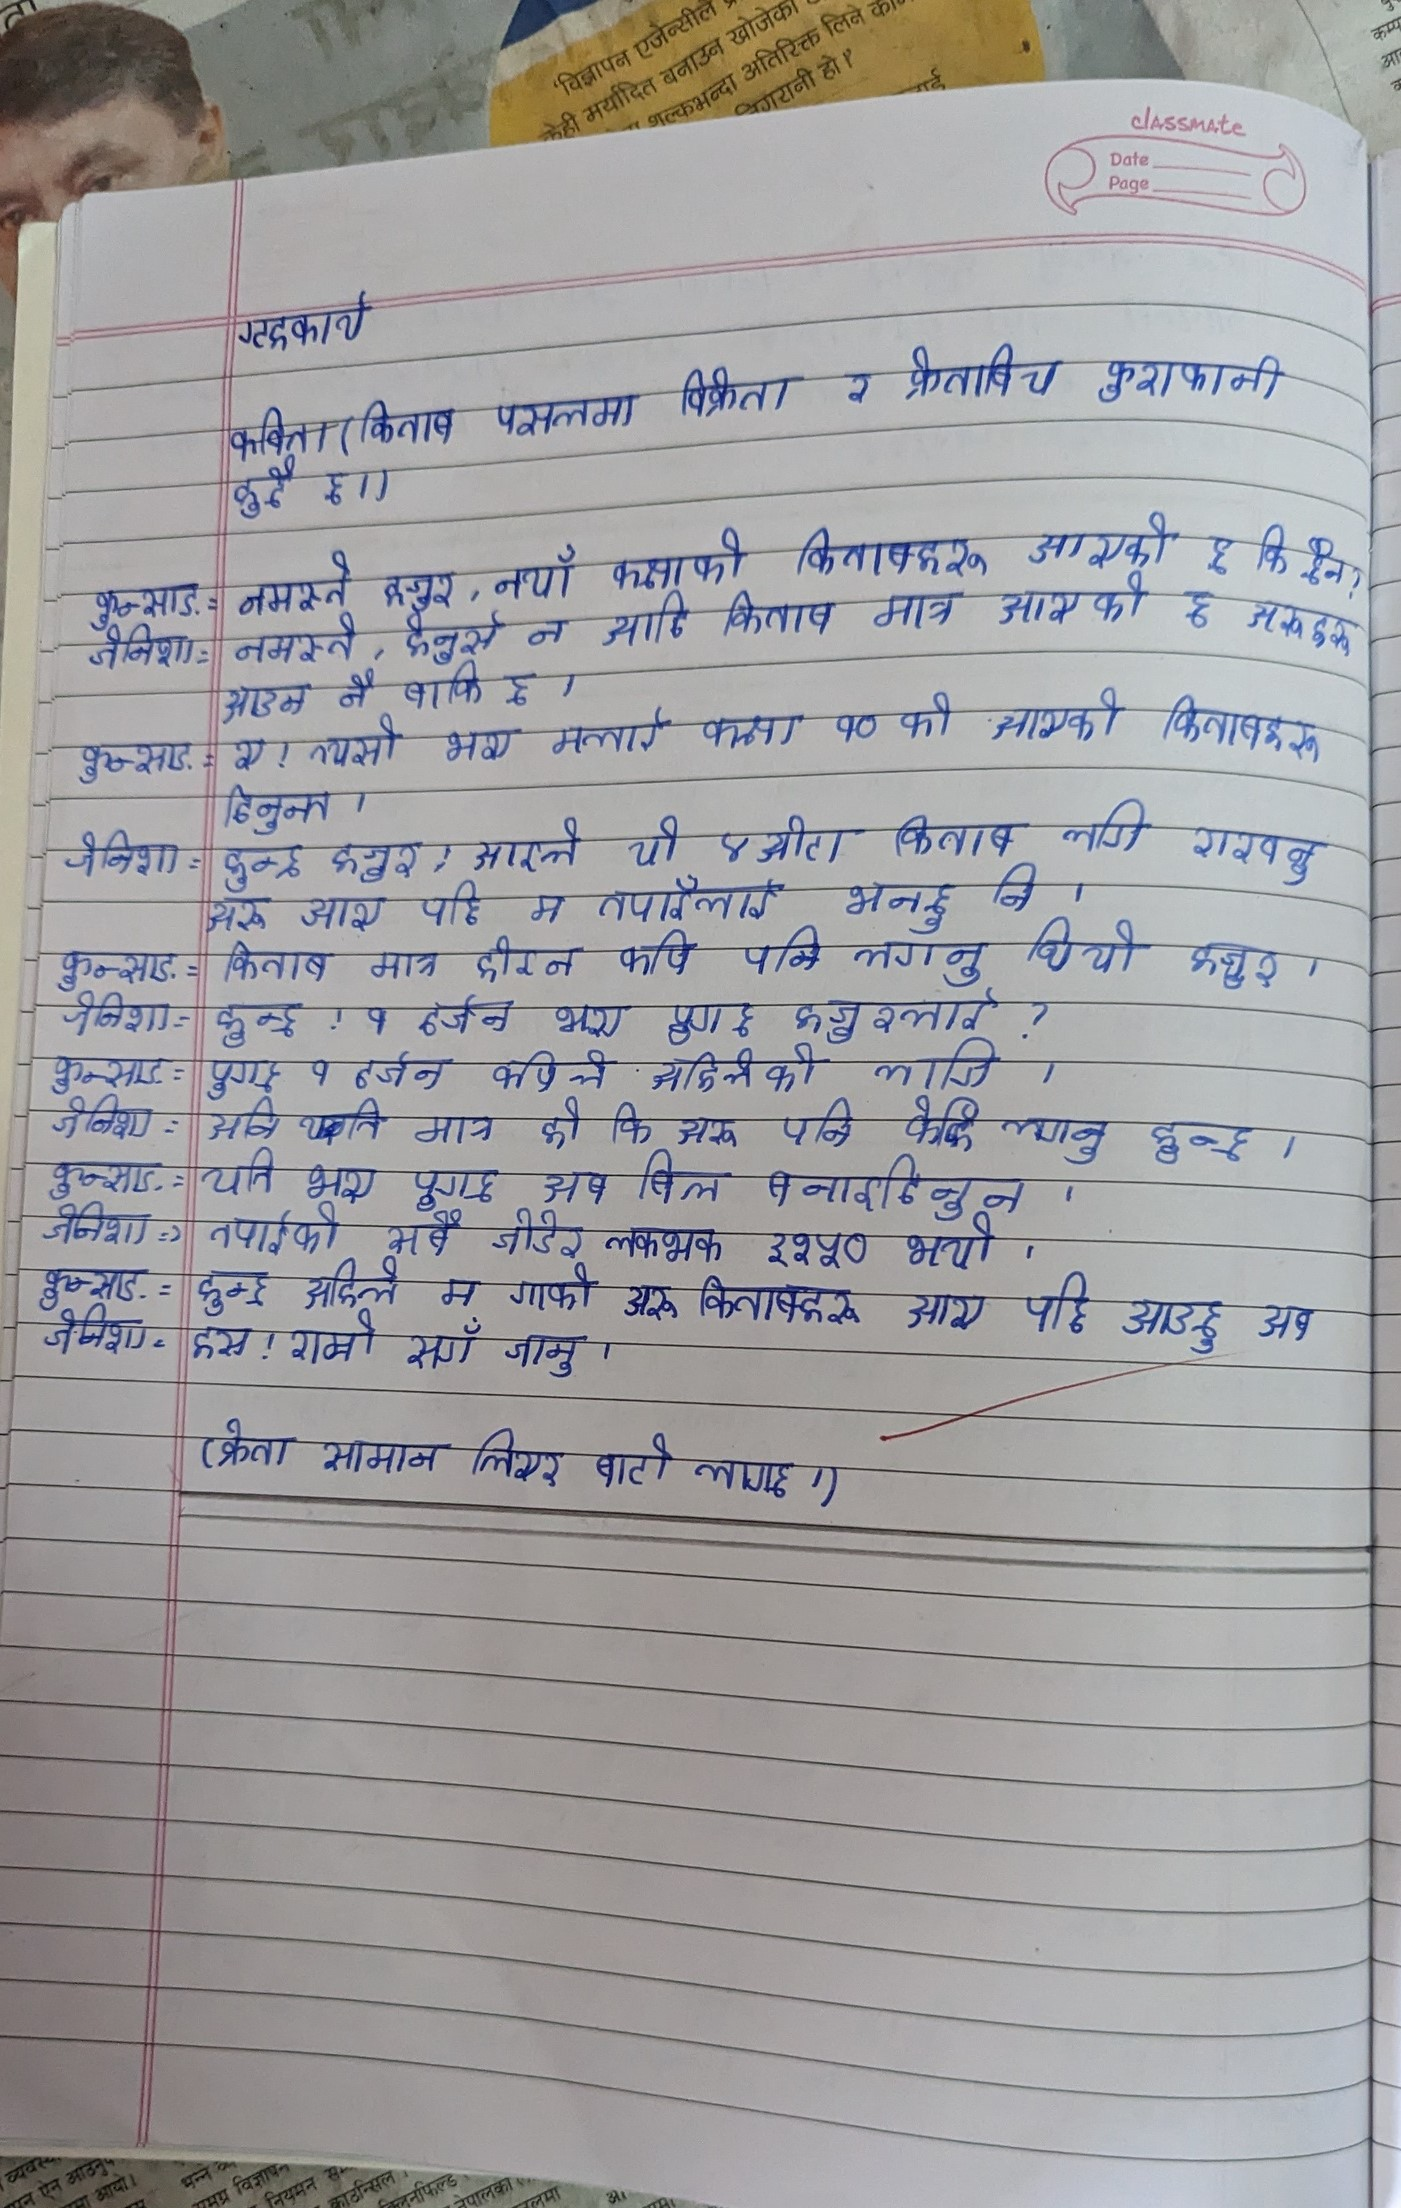text: (754, 1155, 1025, 1215), (1094, 340, 1293, 414), (1158, 689, 1333, 768), (787, 990, 1000, 1041), (1176, 821, 1330, 890), (790, 525, 989, 575), (600, 526, 750, 587), (696, 1273, 861, 1328), (487, 388, 643, 444), (233, 291, 372, 354), (901, 344, 1054, 401), (597, 877, 779, 924), (1177, 927, 1293, 998), (1028, 510, 1168, 568), (1121, 1284, 1227, 1360), (988, 689, 1121, 748), (996, 578, 1145, 629), (648, 1049, 822, 1093), (228, 549, 354, 608), (1136, 1106, 1255, 1167), (312, 1426, 442, 1481), (713, 594, 849, 645), (1025, 916, 1145, 974), (671, 364, 795, 418), (224, 615, 364, 663), (848, 937, 991, 983), (836, 879, 962, 932), (465, 1424, 568, 1489), (889, 809, 1021, 859), (206, 1204, 344, 1250), (470, 816, 577, 875), (74, 732, 191, 785), (84, 629, 201, 681), (1002, 1107, 1108, 1164), (34, 1202, 158, 1250), (867, 1044, 1000, 1088), (602, 1218, 727, 1263), (294, 1258, 404, 1310), (1017, 1267, 1095, 1337), (487, 541, 581, 600), (55, 941, 174, 988), (66, 830, 180, 879), (602, 930, 716, 978), (352, 393, 452, 447), (40, 1304, 150, 1353), (552, 708, 664, 756), (487, 1048, 611, 1091), (589, 1431, 679, 1490), (212, 1410, 298, 1473), (597, 592, 690, 649), (220, 785, 333, 832), (37, 1157, 167, 1197), (214, 991, 304, 1049), (87, 579, 195, 628), (45, 1094, 154, 1141), (693, 1447, 795, 1497), (60, 991, 171, 1036), (1058, 801, 1147, 858), (661, 995, 759, 1044), (695, 710, 807, 753), (901, 1218, 1002, 1267), (45, 1053, 166, 1093), (413, 995, 520, 1040), (468, 935, 577, 978), (1247, 1287, 1322, 1350), (195, 1146, 278, 1202), (404, 1318, 487, 1374), (759, 1226, 867, 1270), (491, 1210, 587, 1258), (639, 1151, 725, 1204), (896, 1284, 991, 1333), (770, 1098, 859, 1149), (396, 616, 500, 660), (503, 1326, 584, 1382), (873, 586, 967, 634), (290, 1313, 381, 1361), (219, 843, 309, 892), (507, 1263, 598, 1310), (409, 1164, 503, 1209), (902, 1094, 978, 1151), (32, 1265, 146, 1302), (759, 814, 841, 866), (219, 943, 331, 980), (381, 1210, 471, 1255), (298, 1098, 381, 1146), (619, 809, 685, 871), (330, 837, 418, 882), (307, 727, 401, 769), (738, 927, 822, 974), (548, 998, 632, 1043), (351, 1049, 441, 1091), (232, 462, 294, 521), (397, 666, 483, 710), (219, 679, 310, 719), (412, 1109, 502, 1149), (376, 563, 454, 608), (894, 684, 952, 744), (203, 1098, 281, 1139), (299, 1159, 375, 1202), (201, 1056, 285, 1094), (531, 1167, 614, 1205), (195, 1270, 272, 1312), (1300, 533, 1350, 592), (190, 1321, 257, 1365), (441, 723, 520, 760), (301, 896, 380, 933), (365, 945, 441, 982), (618, 1279, 679, 1324), (537, 1098, 589, 1151), (418, 885, 486, 925), (672, 1109, 742, 1147), (984, 864, 1039, 912), (207, 896, 267, 937), (307, 468, 359, 512), (610, 1098, 656, 1143), (833, 706, 880, 748), (331, 671, 380, 711), (523, 610, 569, 649), (840, 365, 878, 407), (524, 890, 568, 927), (1203, 525, 1234, 576), (1256, 520, 1287, 571), (438, 1275, 481, 1307), (228, 739, 264, 776), (502, 673, 539, 705), (717, 826, 750, 863), (302, 1053, 331, 1090), (367, 1001, 389, 1038)
